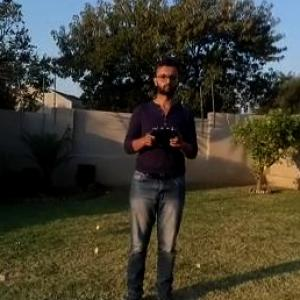follow: (115, 55, 204, 299)
